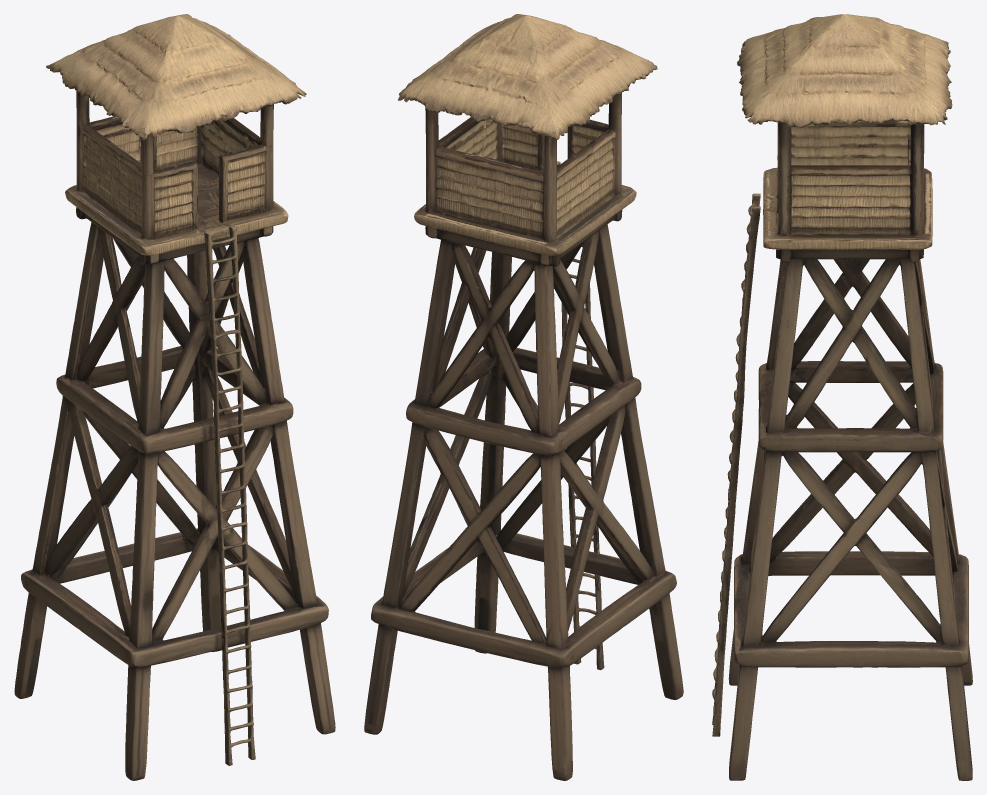
The model's file is tower__thatched-timber-watchtower.glb.
3 views of the same model, side by side, from view 1: azimuth 30°, elevation 25°; view 2: azimuth 150°, elevation 25°; view 3: azimuth 270°, elevation 25° (orthographic). The views are drawn at different scales.
Bounding box in the file's own units: 0.5812 × 1.9 × 0.6264.
1 material, 1 textured.
